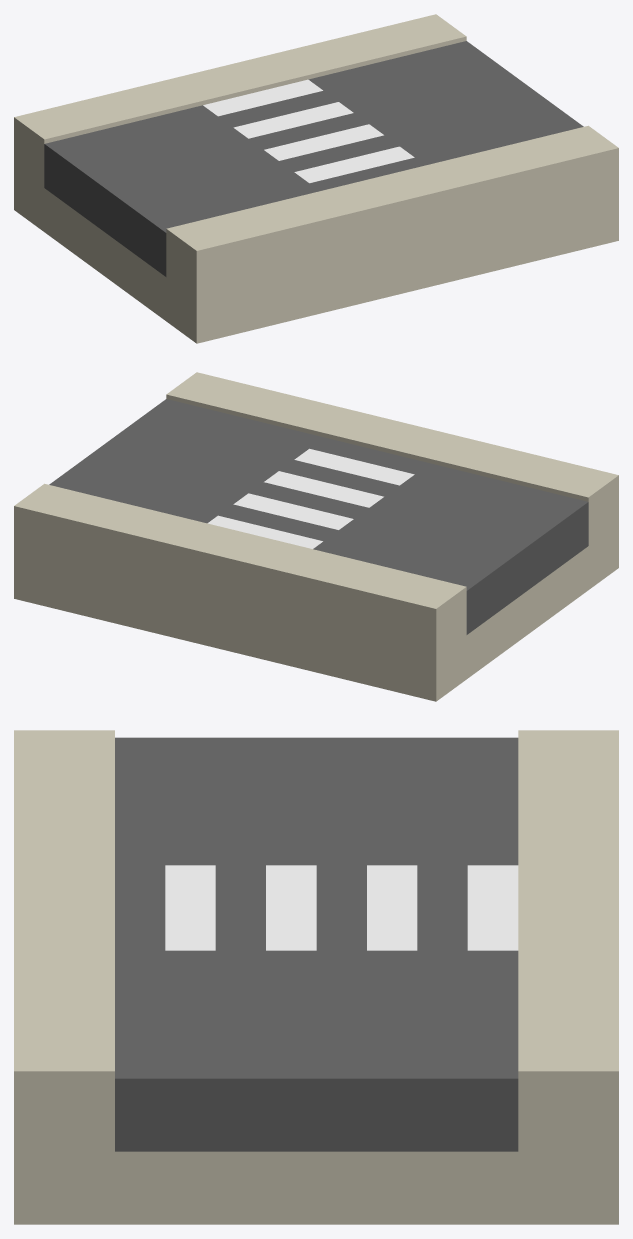
The model's file is tile136.dae.
The picture shows the model from 3 angles, top to bottom: view 1: azimuth 30°, elevation 25°; view 2: azimuth 150°, elevation 25°; view 3: azimuth 270°, elevation 25°; orthographic projection. The views are drawn at different scales.
Visible parts, largest first — view 1: tile136; view 2: tile136; view 3: tile136.
Boxes of the visible parts, x1,y1,x2,y2 form: tile136: (14, 14, 618, 343); tile136: (14, 372, 618, 701); tile136: (14, 730, 618, 1224).
Bounding box in the file's own units: 1 × 0.21 × 0.75.
